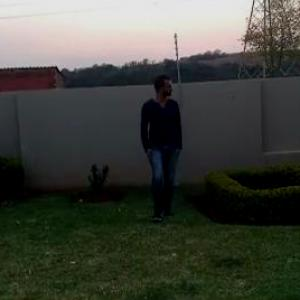follow: (139, 65, 191, 247)
